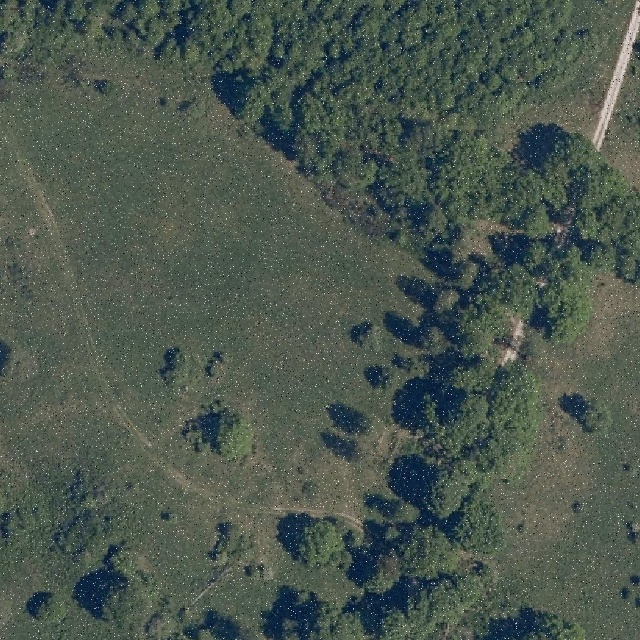vegetation: (0, 0, 640, 640)
